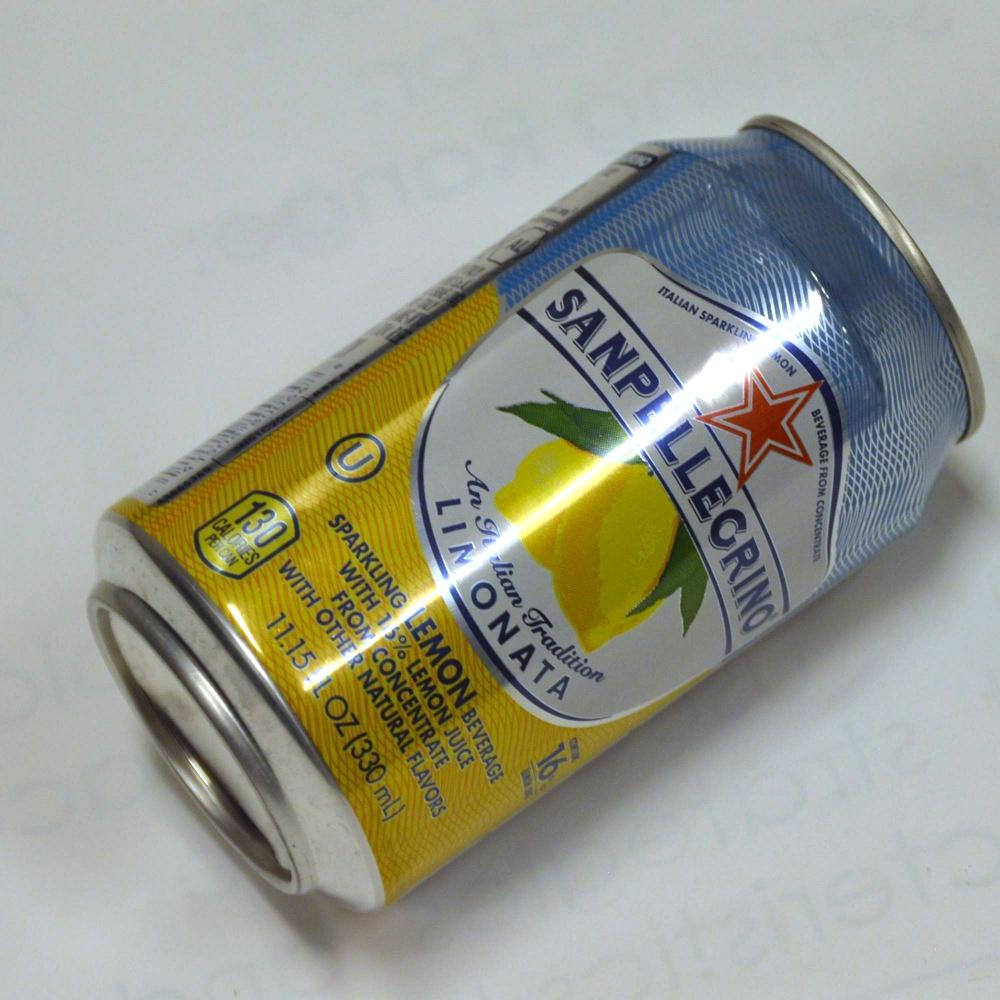Metal: (73, 90, 983, 895)
